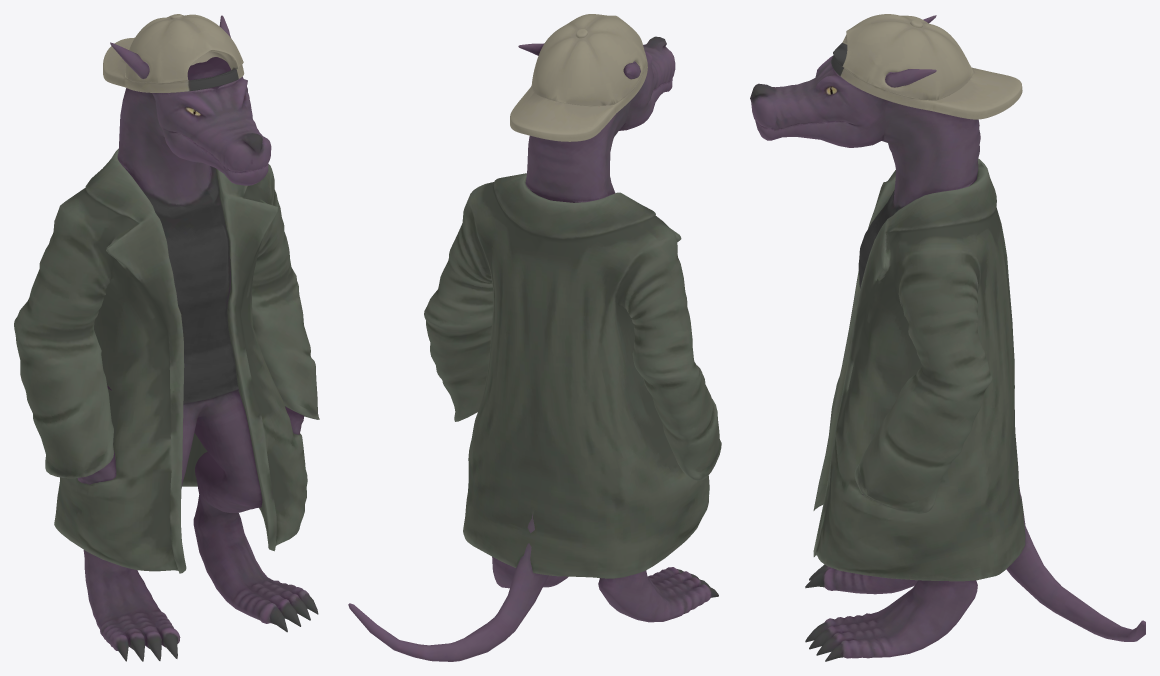
File: MZ4250 - Kobold Slacker Silent Bob.glb
3 views of the same model, side by side, from view 1: azimuth 30°, elevation 25°; view 2: azimuth 150°, elevation 25°; view 3: azimuth 270°, elevation 25° (orthographic). The views are drawn at different scales.
Visible parts, largest first — view 1: Kobold Based body for rigging.002; view 2: Kobold Based body for rigging.002; view 3: Kobold Based body for rigging.002.
Part boxes in pixels (left/top/right/bottom): Kobold Based body for rigging.002: left=14, top=14, right=319, bottom=661; Kobold Based body for rigging.002: left=348, top=14, right=721, bottom=661; Kobold Based body for rigging.002: left=750, top=14, right=1145, bottom=661.
Bounding box in the file's own units: 0.7182 × 1.48 × 0.8933.
3 materials, 3 textured.
